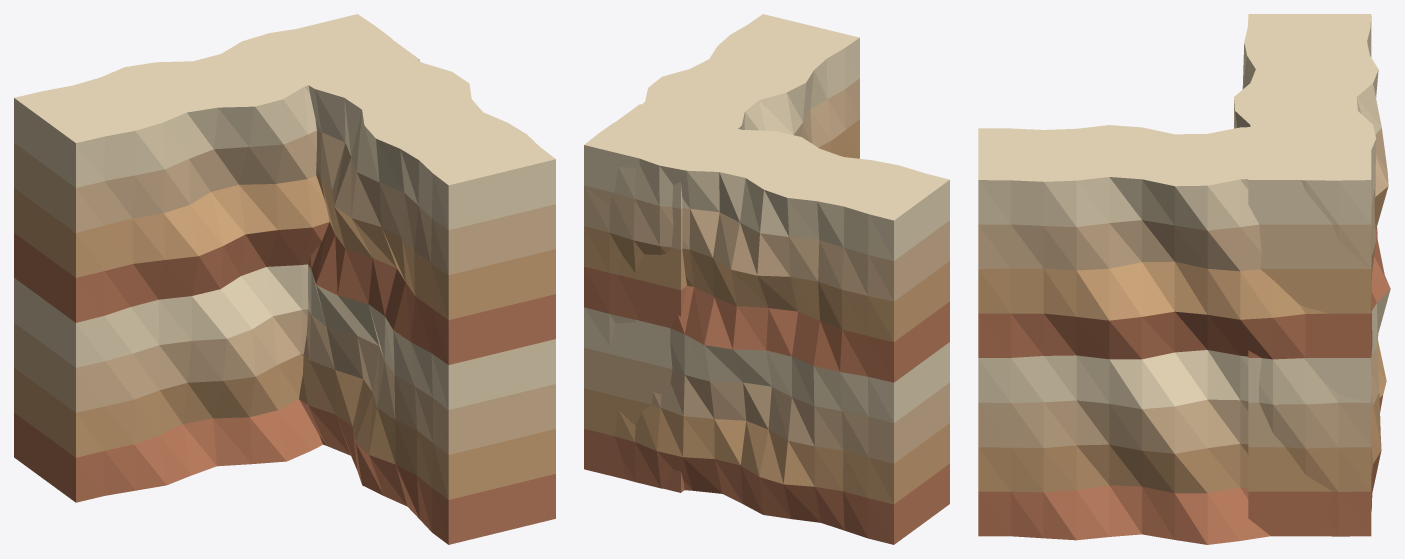
The model's file is desert-canyons-and-oases-canyon-wall-inner-corner-e8d59fc8__20908.glb.
3 views of the same model, side by side, from view 1: azimuth 30°, elevation 25°; view 2: azimuth 150°, elevation 25°; view 3: azimuth 270°, elevation 25° (orthographic). The views are drawn at different scales.
Parts seen in each view (by area): view 1: canyon-wall-inner-corner; view 2: canyon-wall-inner-corner; view 3: canyon-wall-inner-corner.
Boxes of the visible parts, bbox=[...] form: canyon-wall-inner-corner: bbox=[14, 14, 555, 544]; canyon-wall-inner-corner: bbox=[584, 14, 949, 544]; canyon-wall-inner-corner: bbox=[978, 14, 1390, 544].
Size of the model in its own units: 4.21 by 4 by 4.2.
